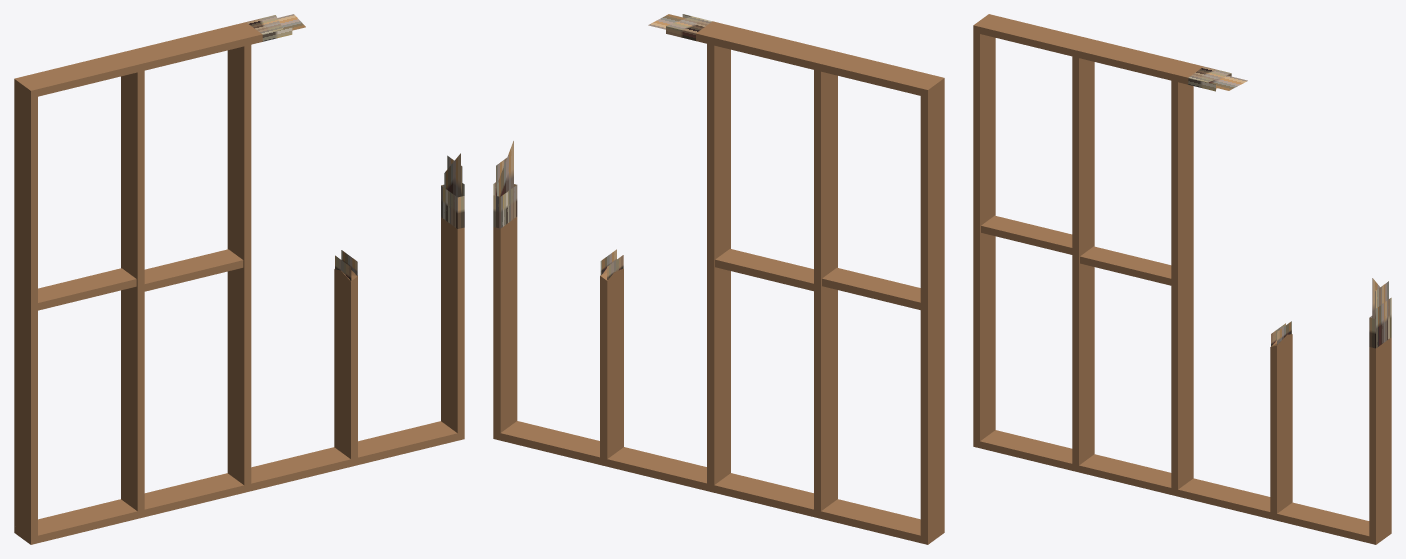
Rendered from DBK_WoodFrame_90_A.fbx.
3 renders of one model, left to right at view 1: azimuth 30°, elevation 25°; view 2: azimuth 150°, elevation 25°; view 3: azimuth 330°, elevation 25°, orthographic. The views are drawn at different scales.
Parts seen in each view (by area): view 1: DBK_WoodFrame_90_A; view 2: DBK_WoodFrame_90_A; view 3: DBK_WoodFrame_90_A.
Boxes of the visible parts, <box> form: DBK_WoodFrame_90_A: <box>14,14,464,544</box>; DBK_WoodFrame_90_A: <box>493,14,944,544</box>; DBK_WoodFrame_90_A: <box>973,14,1391,544</box>.
Size of the model in its own units: 300 by 300 by 20.
